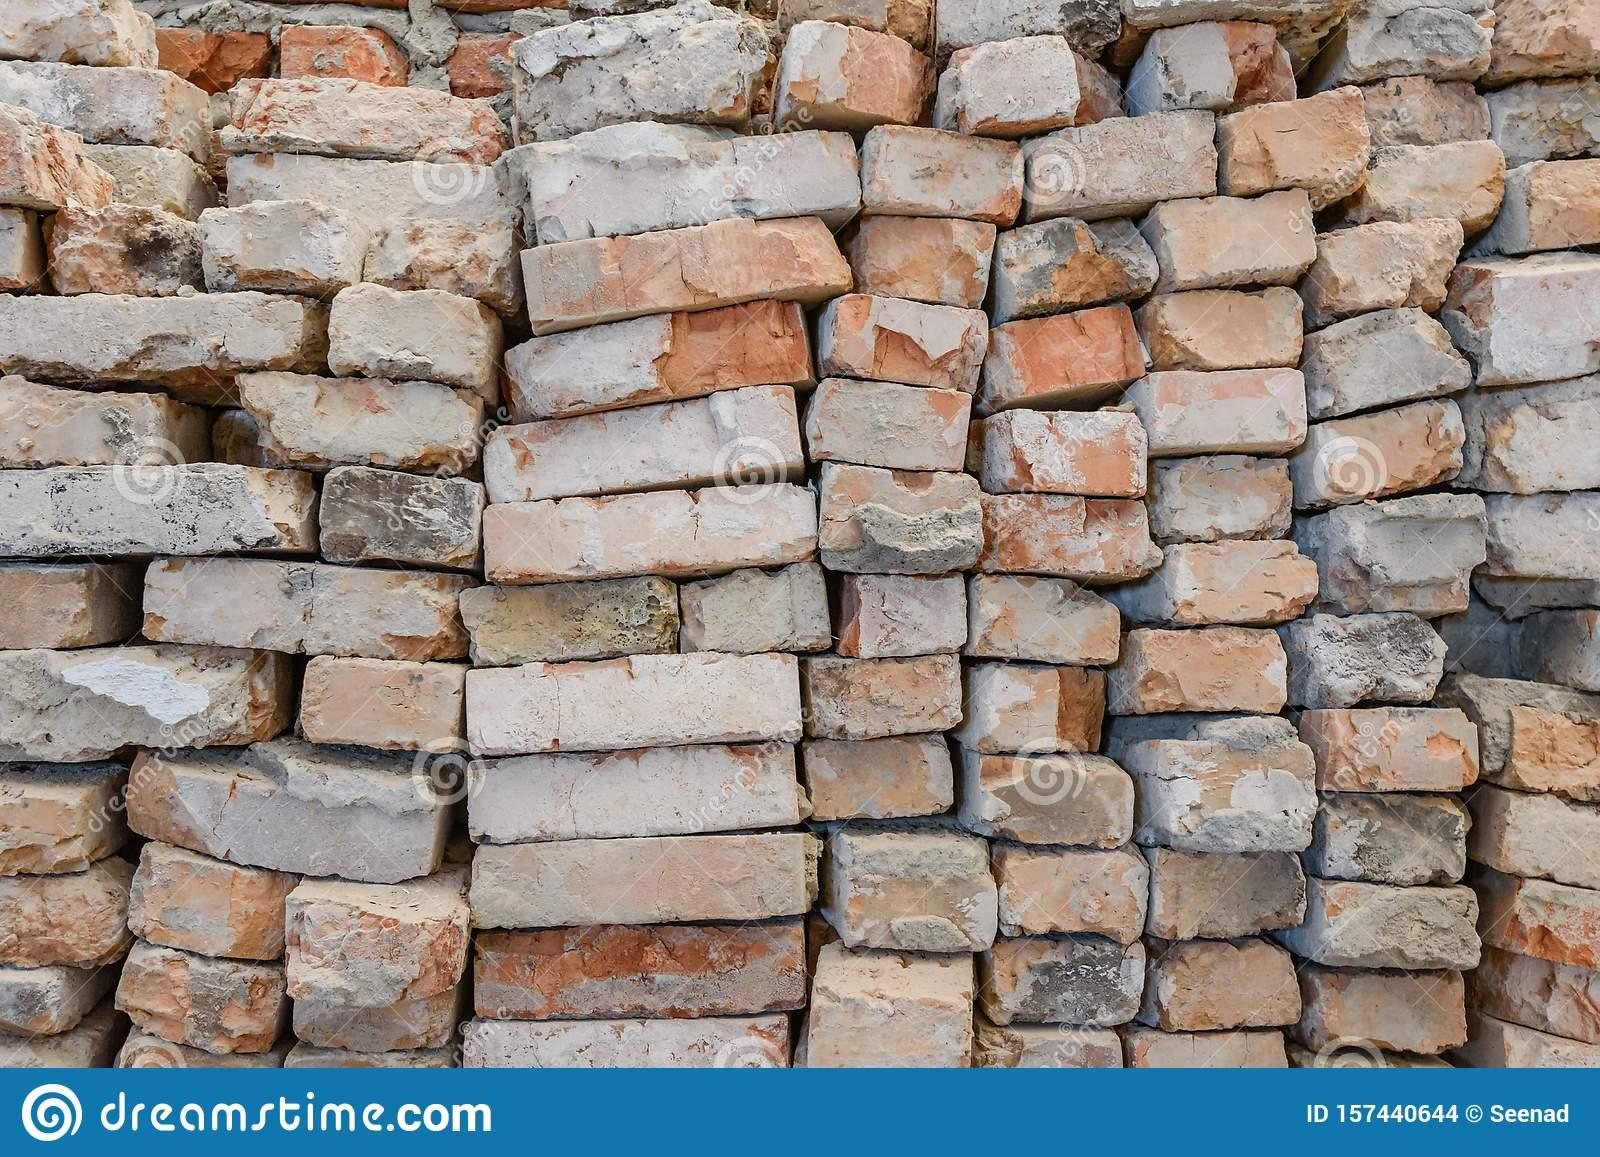brick: (503, 121, 860, 240), (127, 749, 443, 884), (506, 300, 809, 423), (522, 220, 850, 333), (486, 384, 800, 501), (514, 1, 770, 138), (466, 652, 800, 754), (468, 743, 799, 845), (144, 559, 467, 662), (481, 483, 816, 582), (470, 834, 817, 927), (0, 644, 276, 759), (475, 923, 805, 1018), (0, 462, 318, 556), (2, 291, 325, 378), (220, 75, 507, 164), (1297, 493, 1487, 618), (237, 373, 482, 466), (329, 282, 503, 406), (1158, 716, 1317, 849), (4, 61, 212, 162), (458, 573, 681, 665), (1026, 109, 1217, 215), (283, 896, 468, 1003), (127, 841, 292, 959), (114, 941, 286, 1054), (1294, 396, 1465, 510), (834, 835, 998, 952), (819, 460, 983, 575), (226, 154, 496, 224), (1453, 672, 1600, 798), (1302, 309, 1472, 416), (819, 293, 988, 393), (991, 217, 1160, 316), (1458, 375, 1600, 492), (465, 1017, 789, 1068), (319, 467, 483, 568), (984, 304, 1145, 405), (1282, 611, 1448, 708), (1475, 491, 1600, 619), (302, 655, 467, 752), (1221, 85, 1369, 193), (862, 126, 1024, 224), (807, 377, 973, 472), (1477, 257, 1600, 384), (0, 374, 168, 466), (200, 200, 359, 296), (981, 493, 1164, 577), (1157, 185, 1316, 280), (784, 20, 934, 119), (970, 757, 1134, 848), (995, 848, 1149, 943), (1298, 710, 1477, 792), (47, 203, 202, 296), (989, 935, 1147, 1024), (1149, 849, 1306, 938), (678, 562, 832, 652), (1309, 968, 1467, 1056), (1129, 625, 1287, 713), (1138, 368, 1307, 450), (1316, 884, 1481, 967), (1318, 217, 1463, 312), (1318, 793, 1471, 881), (1163, 539, 1318, 625), (810, 652, 963, 739), (364, 221, 516, 308), (996, 409, 1148, 496), (850, 217, 996, 307), (805, 733, 954, 820), (1154, 19, 1297, 109), (1157, 942, 1301, 1031), (1357, 139, 1507, 225), (969, 577, 1119, 662), (809, 990, 973, 1069), (965, 662, 1104, 754), (1148, 287, 1302, 368), (947, 35, 1078, 129), (1150, 456, 1293, 542), (0, 874, 127, 968), (1344, 1, 1493, 77), (1480, 952, 1600, 1044), (294, 987, 453, 1053), (836, 577, 965, 657), (1489, 77, 1600, 168), (1498, 795, 1600, 887), (1493, 879, 1600, 966), (1363, 77, 1492, 143), (1493, 0, 1600, 80), (0, 563, 96, 649), (281, 24, 409, 83), (0, 789, 88, 875), (1525, 159, 1600, 250), (0, 969, 80, 1035)
